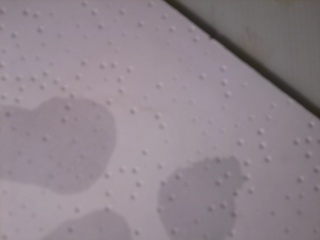Water_detected: (0, 105, 100, 188), (173, 175, 213, 218)
